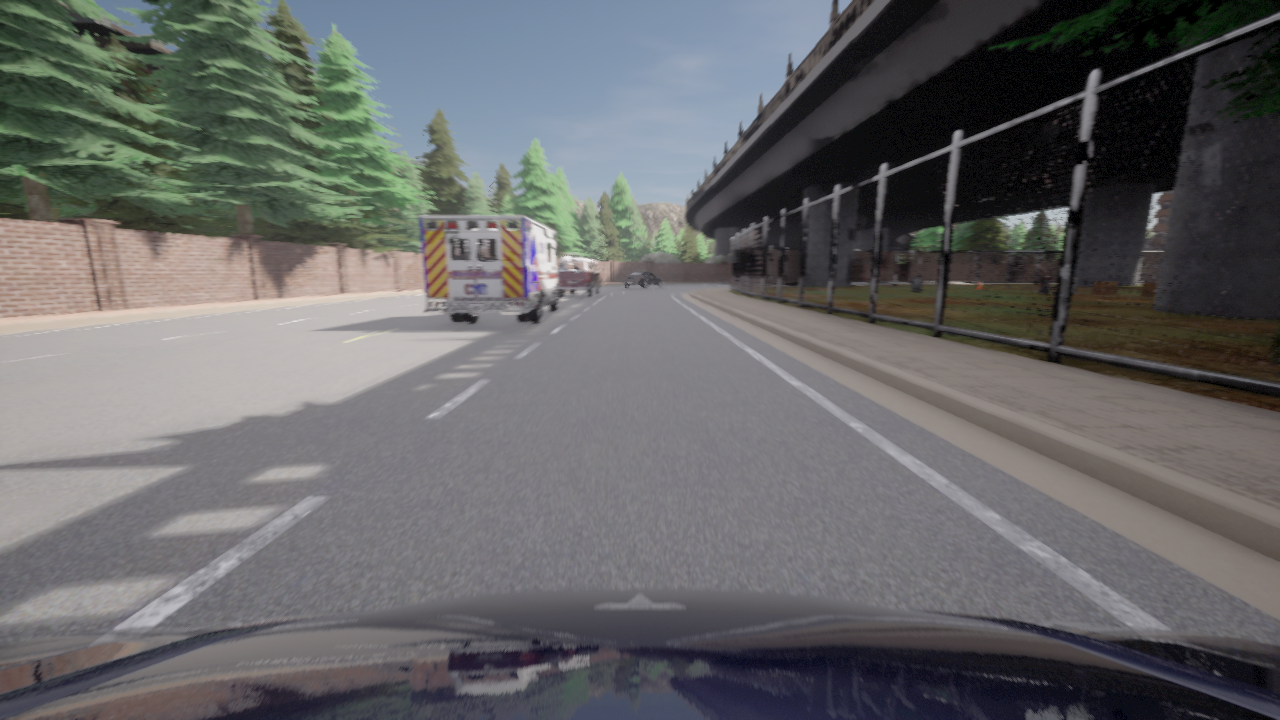cyclist: (0, 588, 1279, 719), (418, 215, 566, 322), (558, 257, 602, 296), (623, 270, 662, 288)
